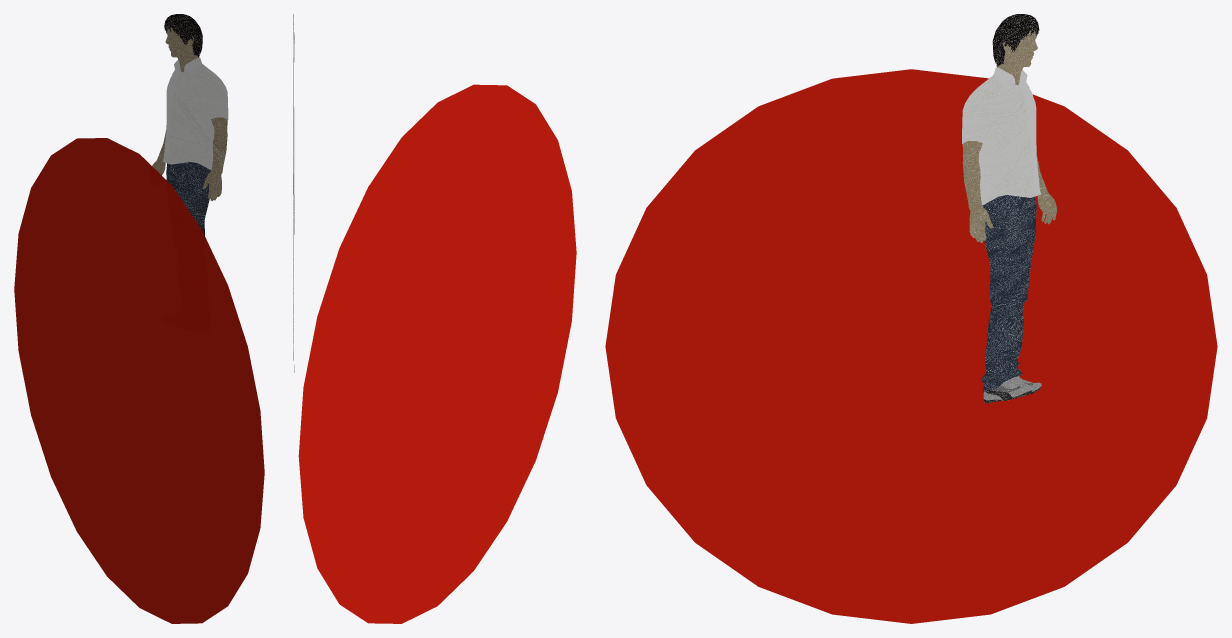
Rendered from circleOnGreenAxis.dae.
3 views of the same model, side by side, from view 1: azimuth 30°, elevation 25°; view 2: azimuth 150°, elevation 25°; view 3: azimuth 270°, elevation 25° (orthographic). The views are drawn at different scales.
Visible parts, largest first — view 1: SketchUp, Sang (×6); view 2: SketchUp; view 3: SketchUp, Sang (×6).
Part boxes in pixels (x1,y1,x2,y2): SketchUp: (14,138,264,623); Sang (×6): (162,14,228,235); SketchUp: (298,84,576,623); SketchUp: (605,69,1217,623); Sang (×6): (962,14,1041,391).
Size of the model in its own units: 25.23 by 100 by 119.
